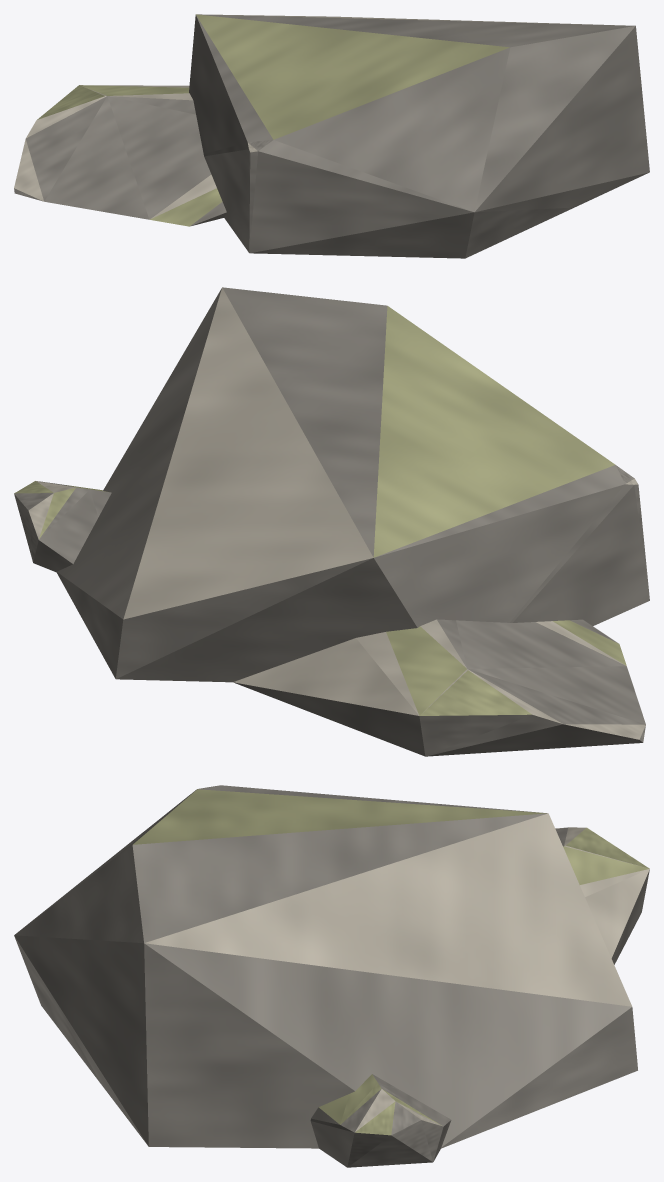
Rendered from rock_pebble_set_04.fbx.
3 views of the same model, one above another, from view 1: azimuth 30°, elevation 25°; view 2: azimuth 150°, elevation 25°; view 3: azimuth 270°, elevation 25° (orthographic). The views are drawn at different scales.
Visible parts, largest first — view 1: rock_pebble_set_04; view 2: rock_pebble_set_04; view 3: rock_pebble_set_04.
Boxes of the visible parts, x1,y1,x2,y2 form: rock_pebble_set_04: (14, 14, 649, 258); rock_pebble_set_04: (14, 287, 649, 756); rock_pebble_set_04: (14, 785, 649, 1167).
Size of the model in its own units: 0.3351 by 0.0954 by 0.2604.
